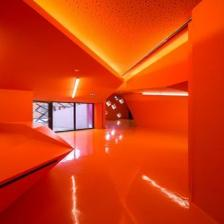orange: (1, 0, 224, 101), (0, 131, 224, 224)
